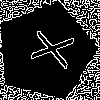X: (21, 26, 75, 70)
